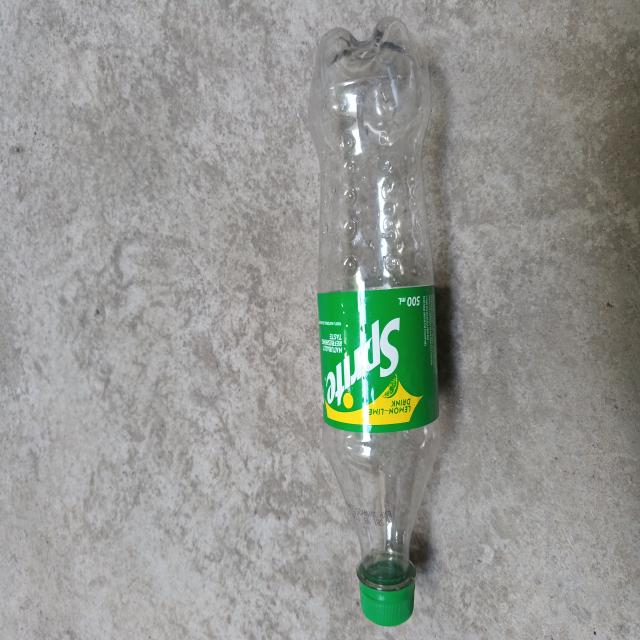Bottle: (308, 17, 441, 626)
